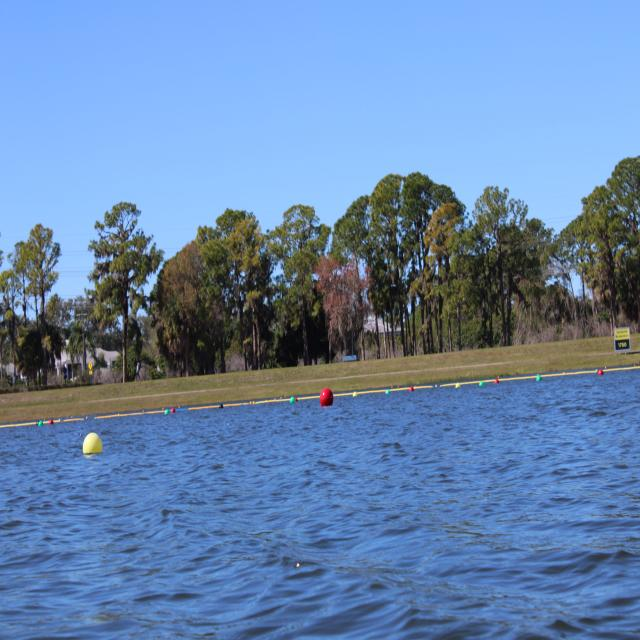green-buoy: (36, 420, 41, 428), (536, 376, 541, 383)
red-buoy: (323, 385, 336, 406), (596, 368, 602, 376), (49, 419, 53, 426)
yellow-buoy: (82, 431, 102, 457), (456, 383, 462, 390)
